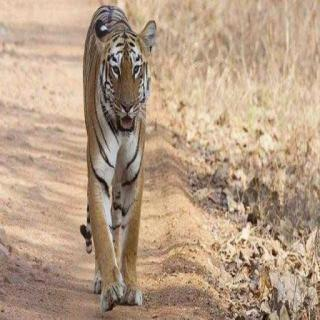Tiger: (78, 3, 161, 312)
